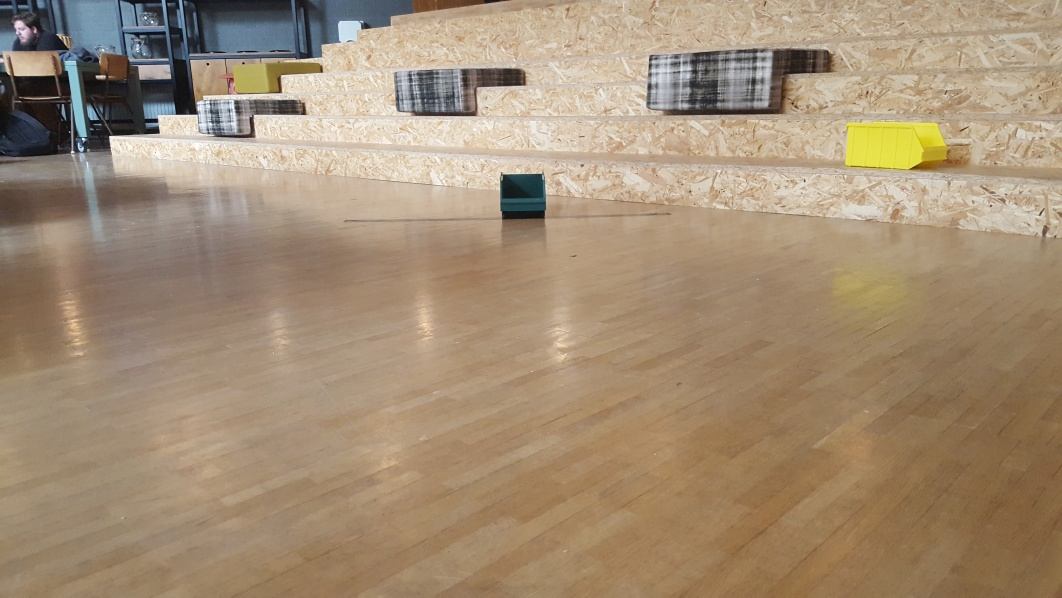tray: (840, 121, 948, 172), (496, 171, 550, 222)
